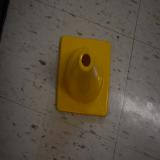cone: (56, 35, 111, 118)
